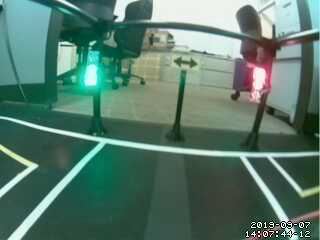Left_Right_sign: (168, 53, 203, 71)
Traffic_light_green: (81, 58, 101, 89)
Traffic_light_red: (249, 62, 269, 106)
